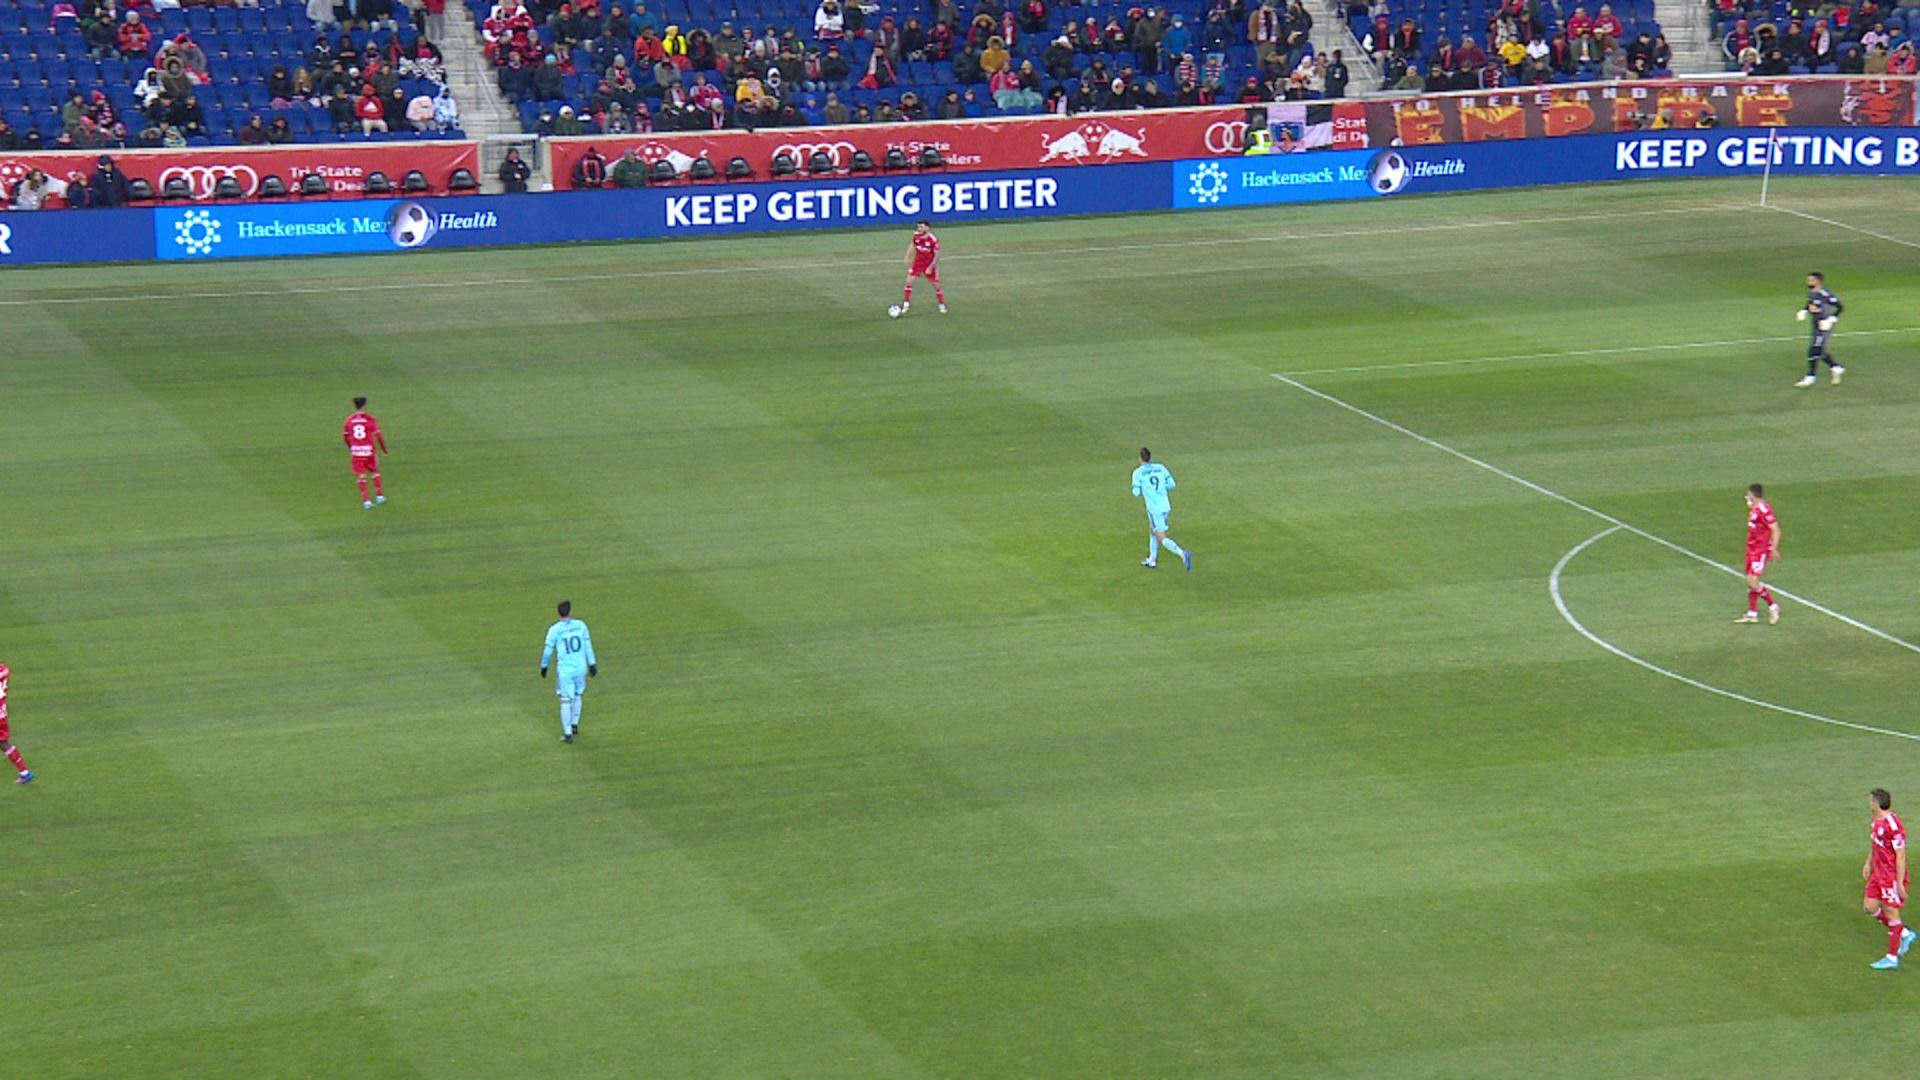football: (886, 305, 901, 318)
